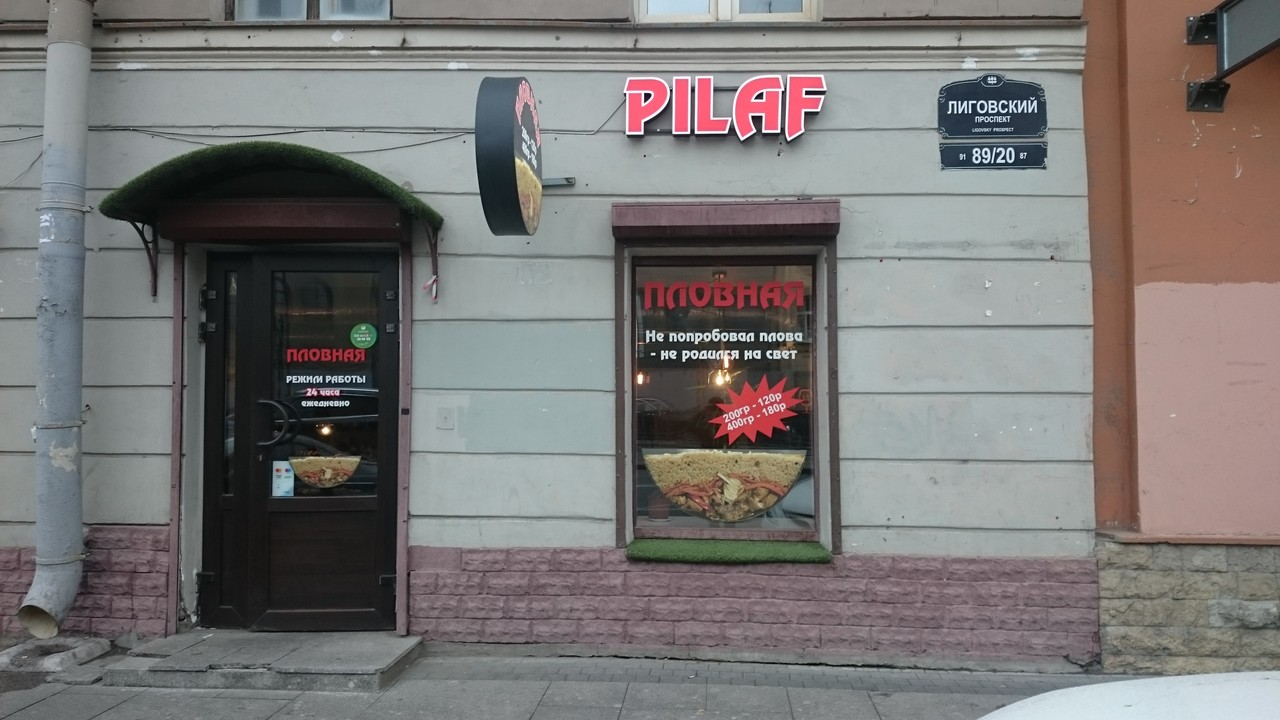cantilever: (476, 75, 545, 237)
door: (243, 255, 395, 636)
signboard: (623, 74, 825, 144)
window: (634, 252, 818, 541)
